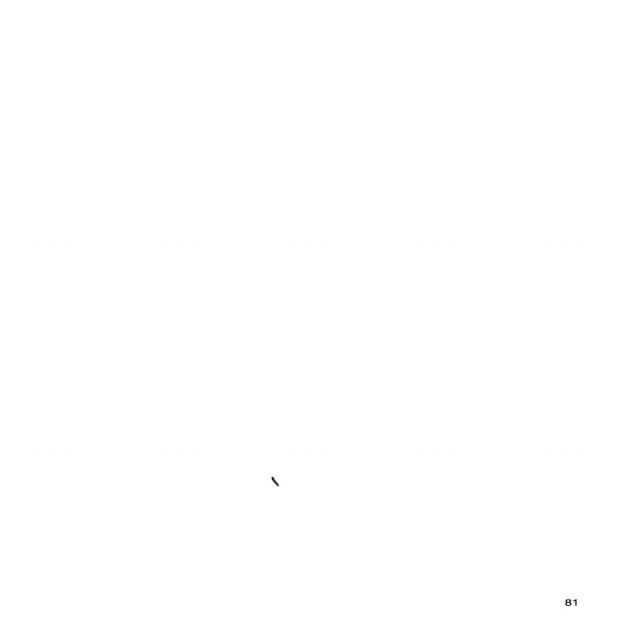1 -one-: (266, 474, 284, 490)
